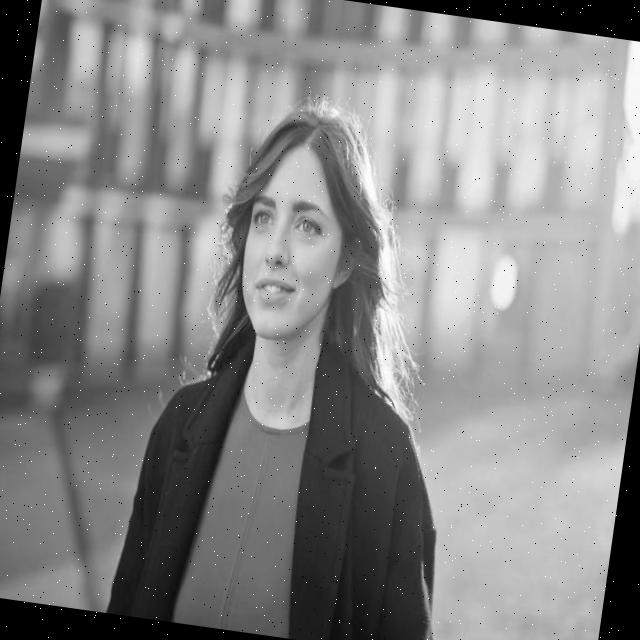Happiness: (230, 143, 353, 350)
